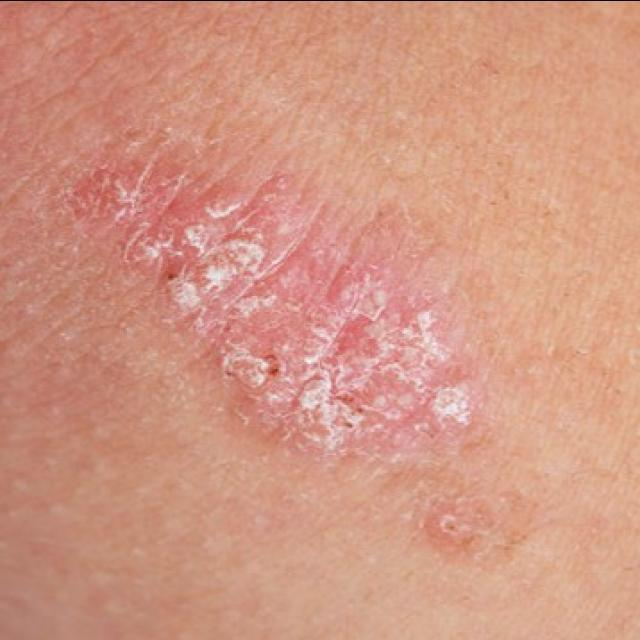Psoriasis: (50, 120, 526, 576)
